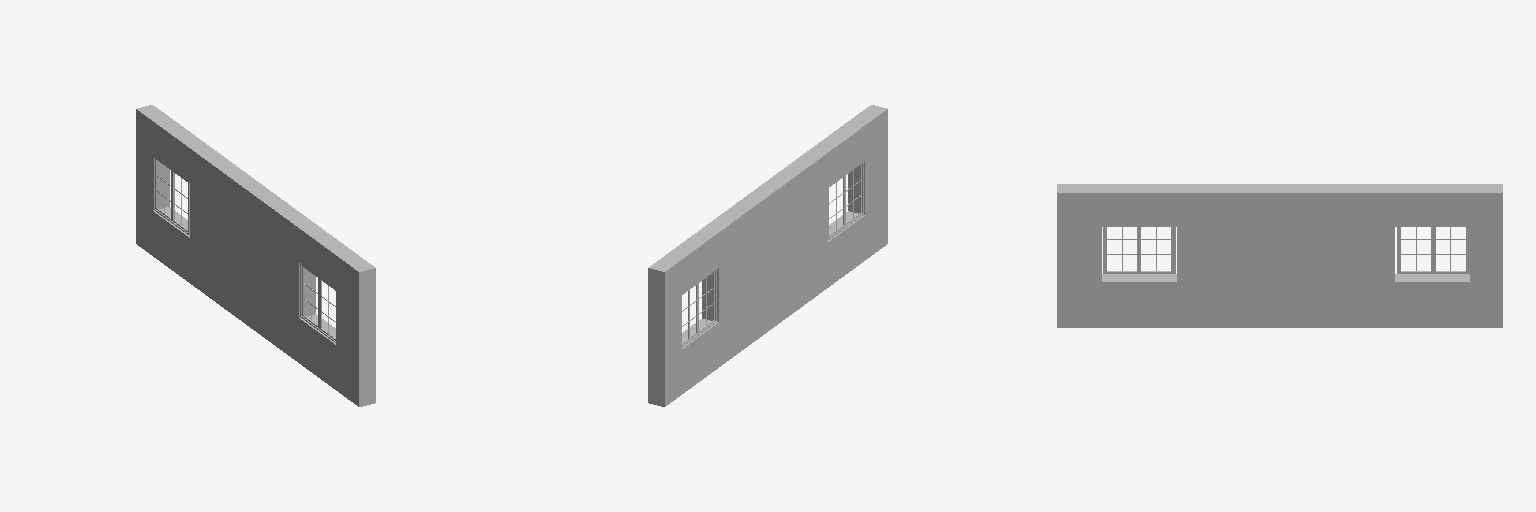
Rendered from Pared4Arriba.obj.
The picture shows the model from 3 angles: view 1: azimuth 30°, elevation 25°; view 2: azimuth 150°, elevation 25°; view 3: azimuth 270°, elevation 25°; orthographic projection.
Parts seen in each view (by area): view 1: refri_edit31:Box007 pasted__pasted__group62 pasted__group71 grou; view 2: refri_edit31:Box007 pasted__pasted__group62 pasted__group71 grou; view 3: refri_edit31:Box007 pasted__pasted__group62 pasted__group71 grou.
Boxes of the visible parts, x1=… form: refri_edit31:Box007 pasted__pasted__group62 pasted__group71 grou: x1=136, y1=105, x2=375, y2=406; refri_edit31:Box007 pasted__pasted__group62 pasted__group71 grou: x1=648, y1=105, x2=887, y2=406; refri_edit31:Box007 pasted__pasted__group62 pasted__group71 grou: x1=1057, y1=184, x2=1502, y2=327.
Size of the model in its own units: 0.8689 by 6.64 by 19.87.